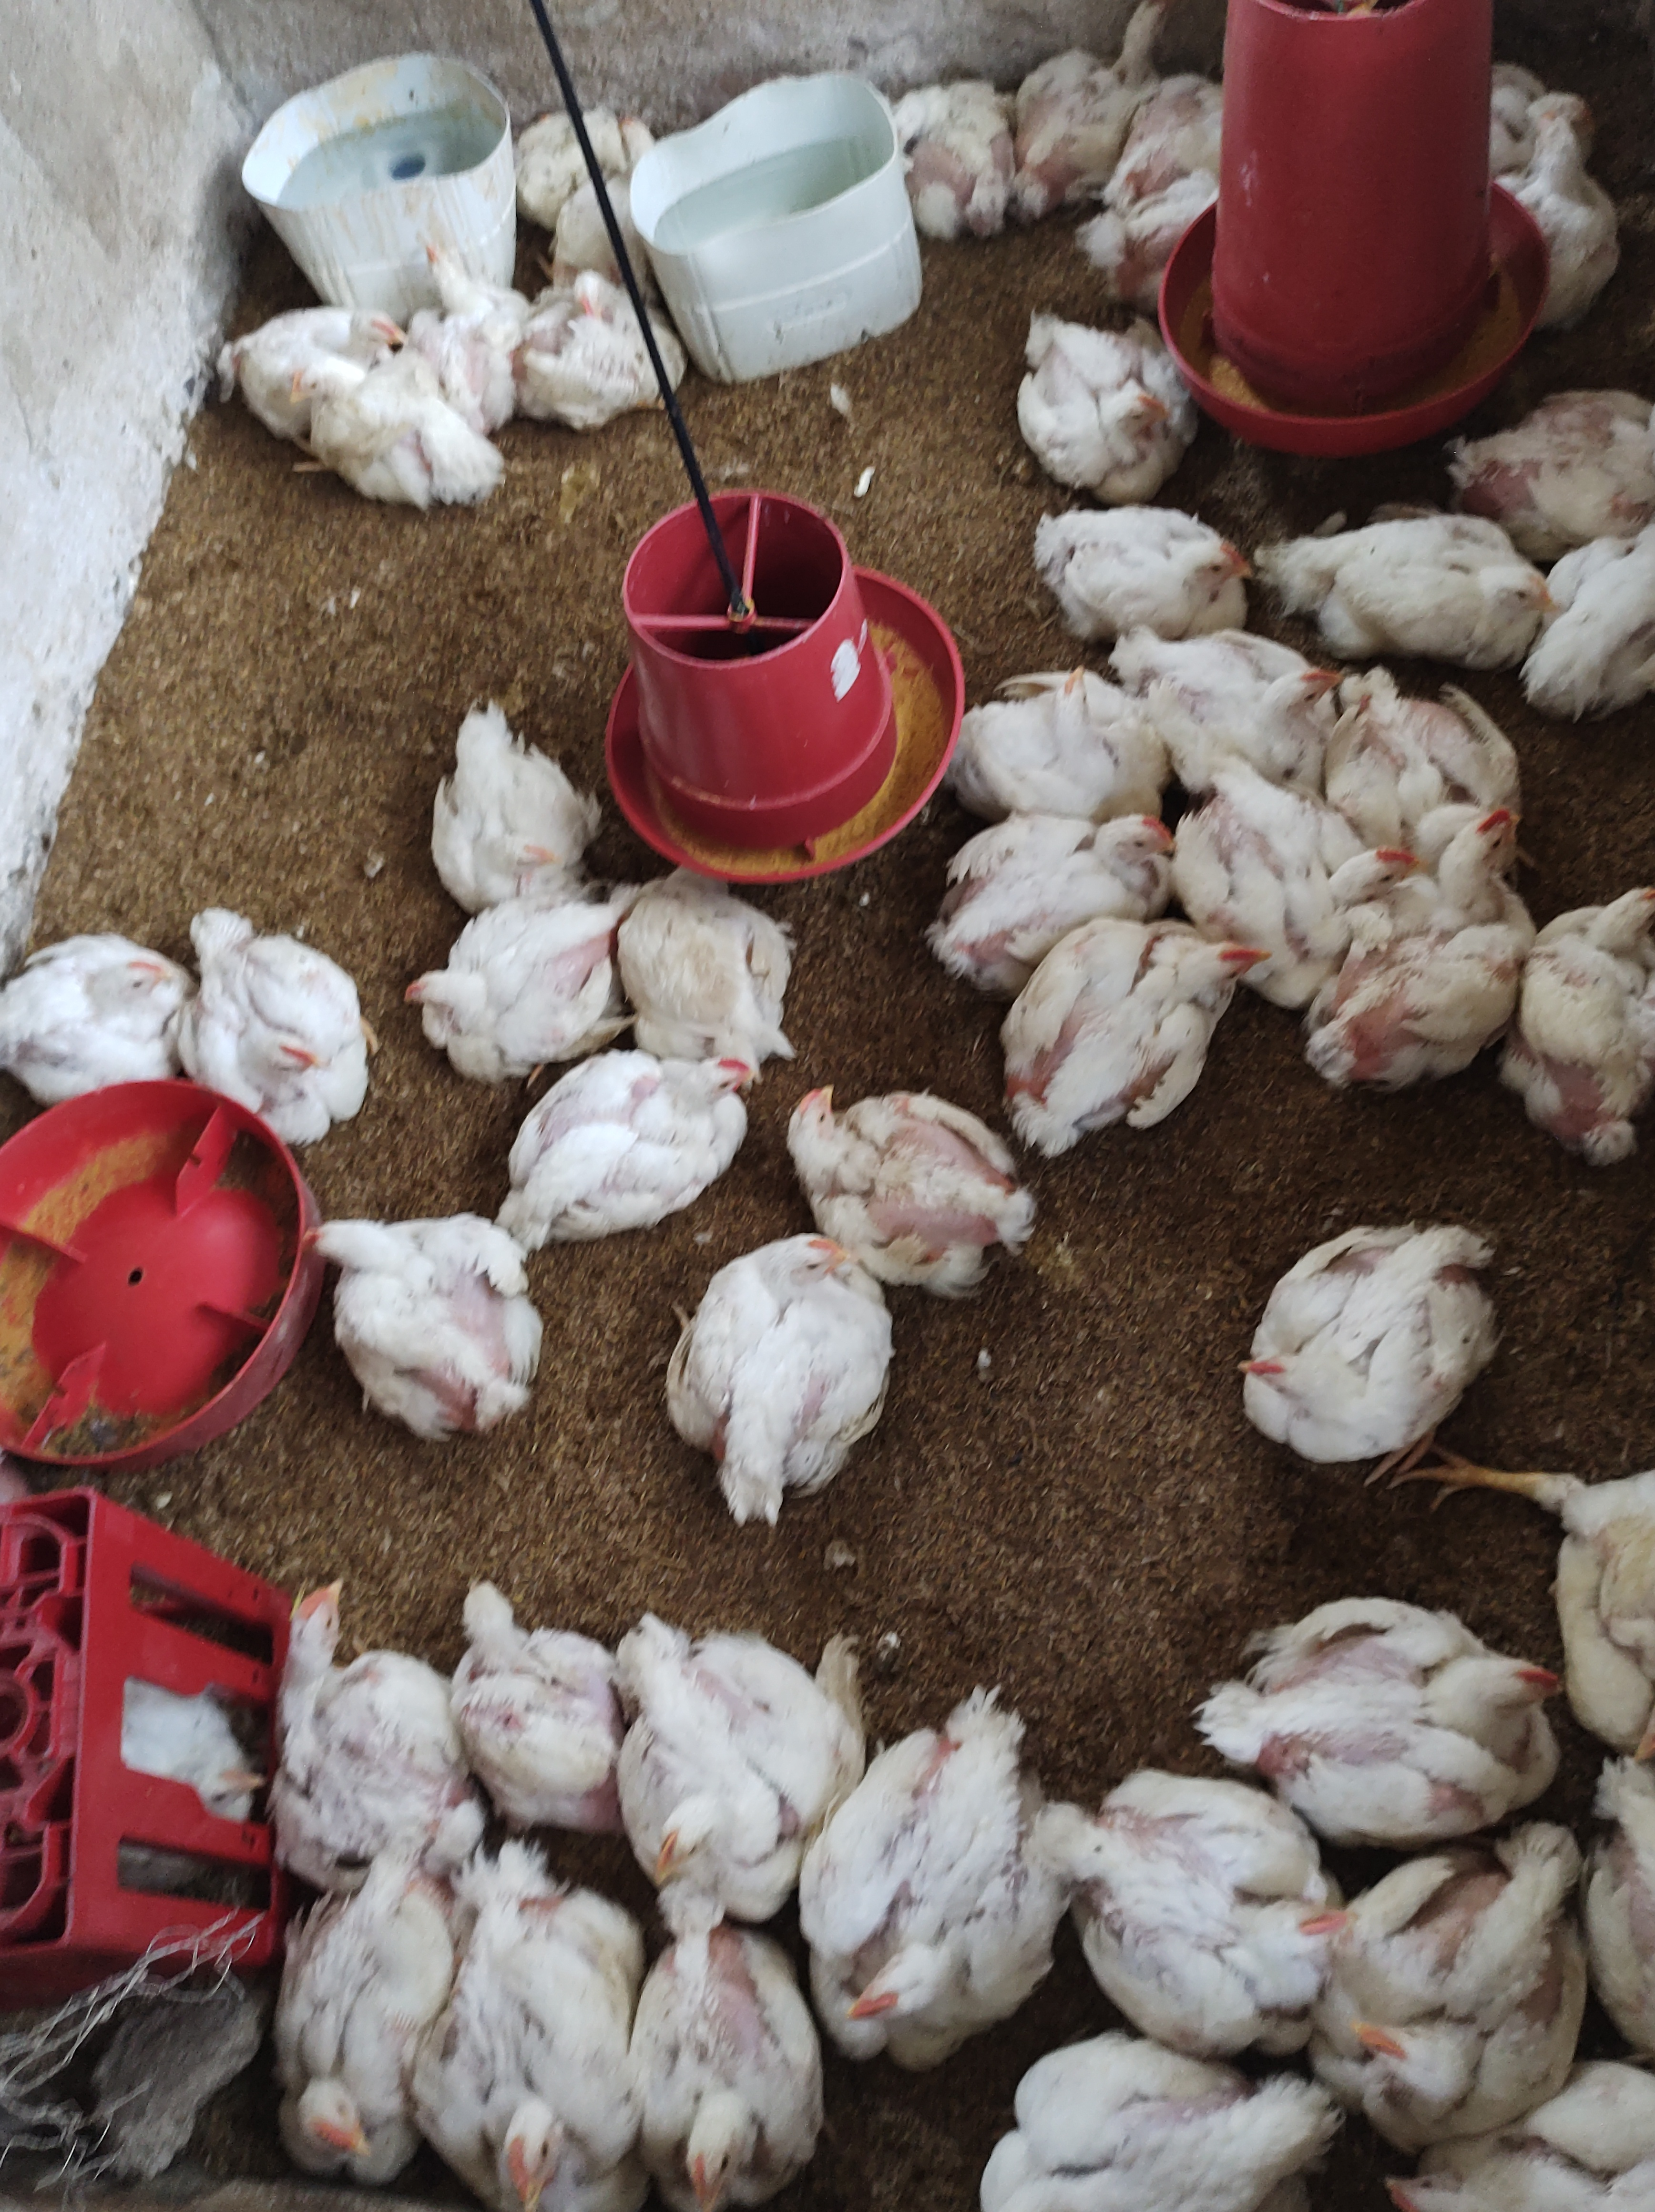Pollos: (814, 1678, 1088, 2052), (1342, 1805, 1599, 2149), (1059, 1763, 1351, 2052), (624, 1574, 864, 1918), (1200, 1212, 1512, 1473), (1245, 1579, 1568, 1821), (648, 1224, 888, 1541), (982, 2029, 1373, 2212), (438, 1868, 640, 2212), (1293, 812, 1532, 1087), (1252, 457, 1549, 675), (788, 1059, 1041, 1297), (264, 1875, 447, 2198), (482, 1035, 761, 1245), (1010, 920, 1267, 1146), (1161, 756, 1412, 988), (275, 1565, 462, 1873), (304, 1210, 541, 1454), (633, 1927, 826, 2207), (382, 849, 622, 1073), (186, 897, 372, 1156), (455, 1567, 622, 1854), (0, 876, 179, 1120), (1504, 889, 1655, 1162), (939, 652, 1170, 824), (960, 798, 1172, 981), (1537, 1424, 1655, 1751), (1015, 278, 1186, 496), (280, 343, 506, 506), (1132, 610, 1326, 791), (113, 1661, 275, 1878), (1001, 3, 1160, 224), (1031, 494, 1259, 645), (1081, 68, 1243, 276), (1474, 115, 1625, 337), (426, 699, 600, 892), (624, 871, 796, 1064), (1326, 675, 1523, 835), (1516, 515, 1655, 715), (205, 271, 402, 405), (542, 271, 697, 431), (1479, 383, 1655, 520), (892, 49, 1007, 247), (407, 221, 532, 337), (608, 71, 671, 226)
